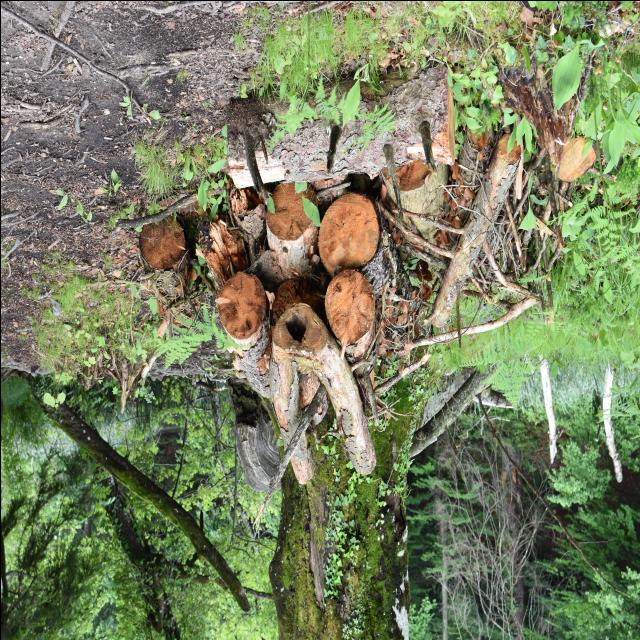restos de madeira: (424, 139, 521, 327), (270, 298, 376, 464), (318, 198, 420, 346), (256, 178, 386, 290), (322, 62, 450, 172), (493, 38, 592, 172), (226, 86, 340, 188), (213, 262, 279, 398), (407, 295, 543, 347), (391, 140, 450, 249), (197, 188, 263, 282), (326, 264, 378, 364), (436, 152, 476, 252), (138, 215, 190, 282), (424, 63, 456, 165), (267, 275, 325, 329), (482, 126, 522, 204), (481, 251, 536, 301), (400, 219, 463, 258), (554, 134, 596, 181), (535, 184, 564, 252), (506, 173, 538, 228), (101, 265, 159, 291), (288, 429, 314, 484), (609, 153, 640, 199), (302, 375, 328, 427), (158, 290, 198, 320), (152, 268, 180, 299), (584, 160, 616, 182), (338, 338, 346, 361)
terra: (498, 430, 528, 634)
